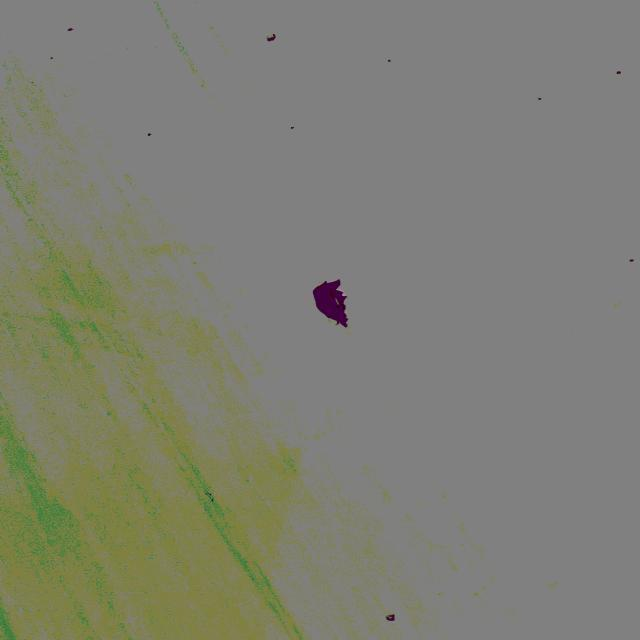crack: (327, 289, 352, 319)
